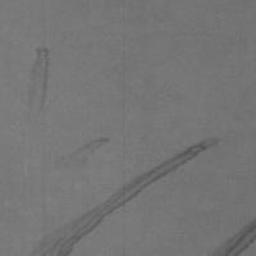Water spot: (26, 134, 221, 256), (23, 45, 52, 129), (52, 134, 114, 173), (205, 218, 256, 256)
